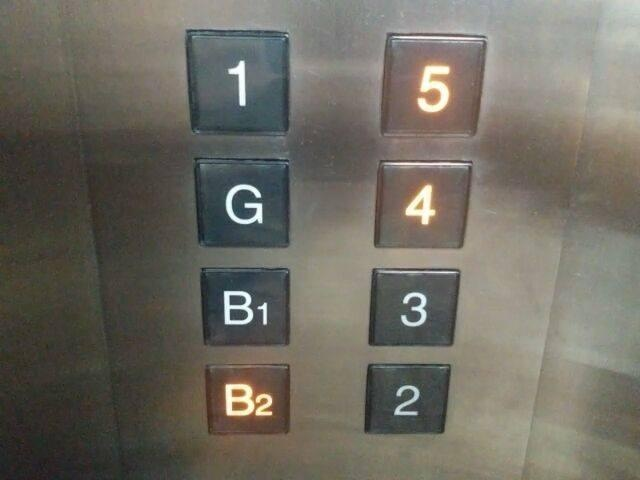1: (181, 26, 294, 139)
2: (361, 359, 455, 439)
3: (364, 262, 463, 352)
4: (371, 154, 476, 253)
5: (376, 29, 491, 142)
B1: (195, 264, 293, 350)
B2: (201, 359, 295, 439)
G: (189, 152, 294, 253)
